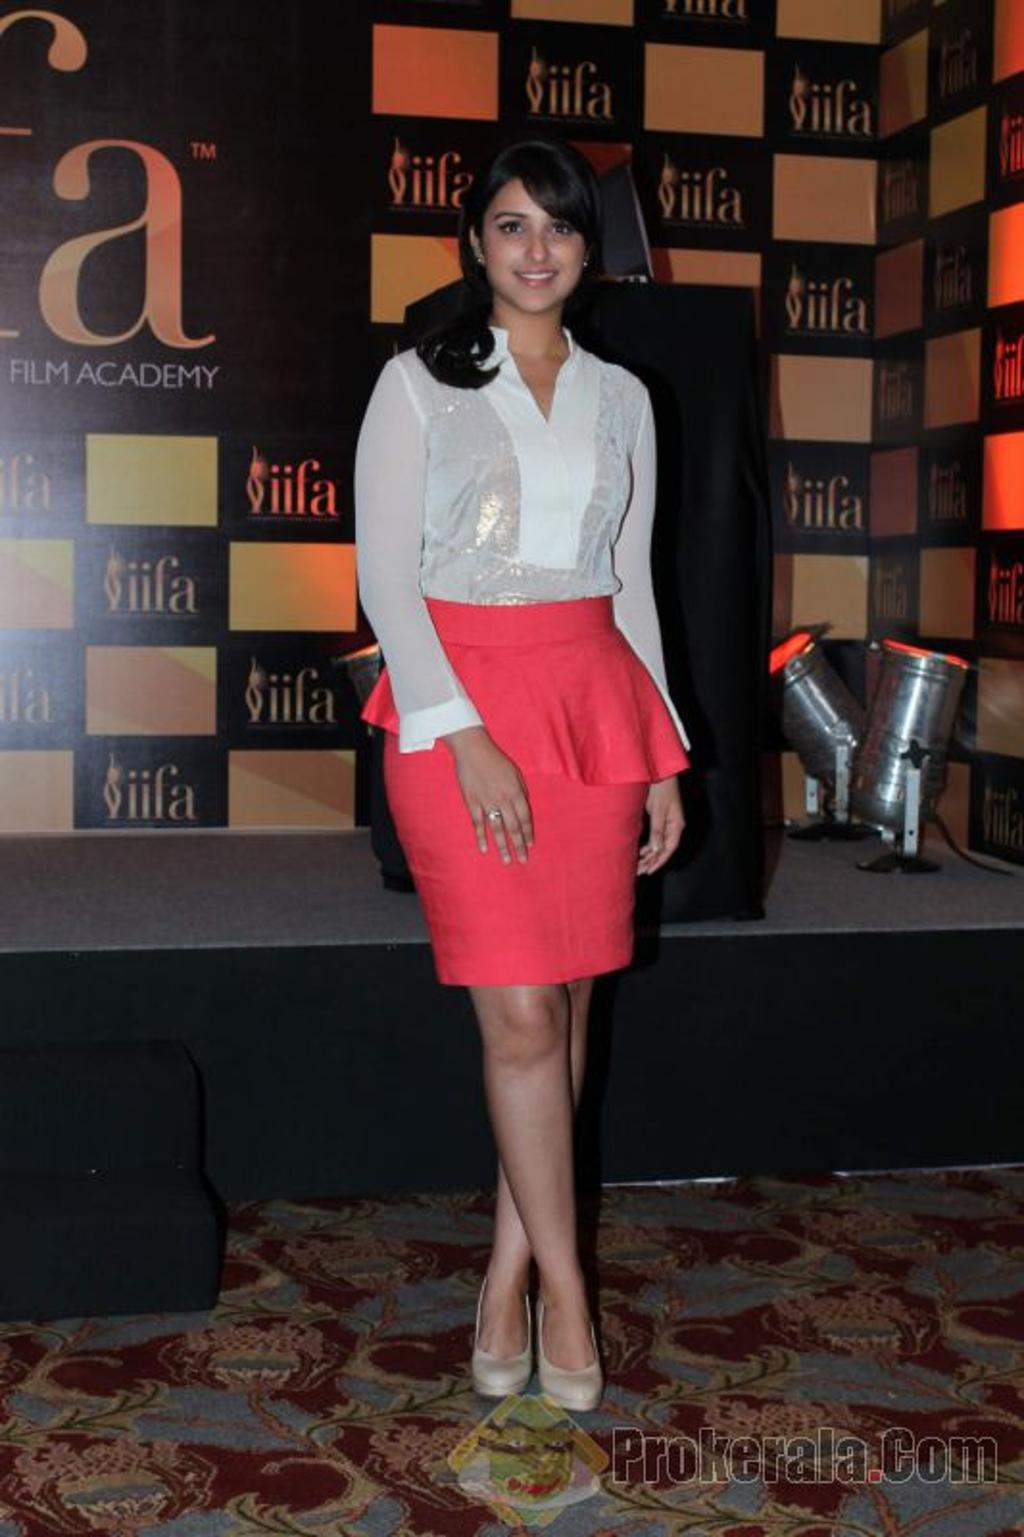face: (484, 181, 589, 313)
